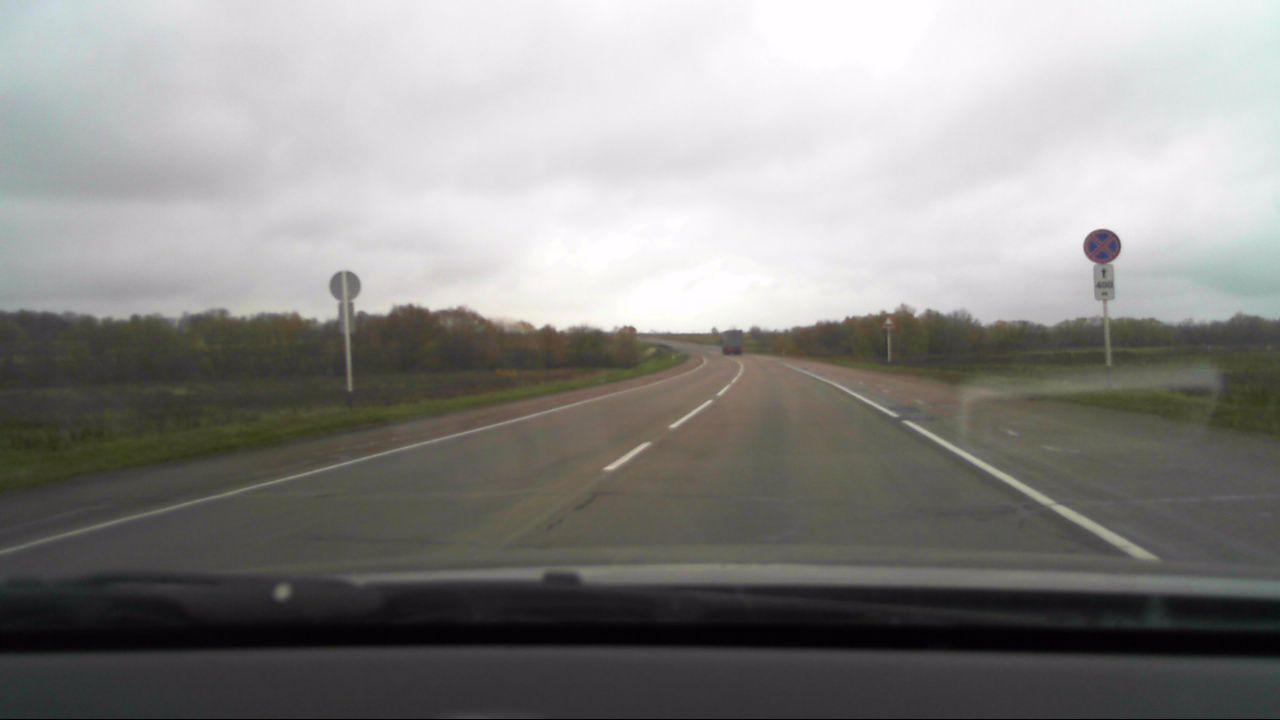No Parking: (1080, 229, 1123, 264)
